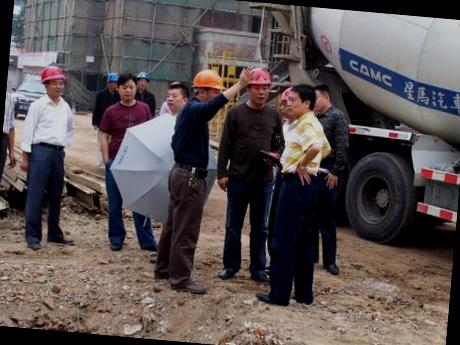no_helmet: (282, 79, 315, 121), (161, 77, 192, 112), (113, 70, 138, 102), (312, 82, 334, 115)
